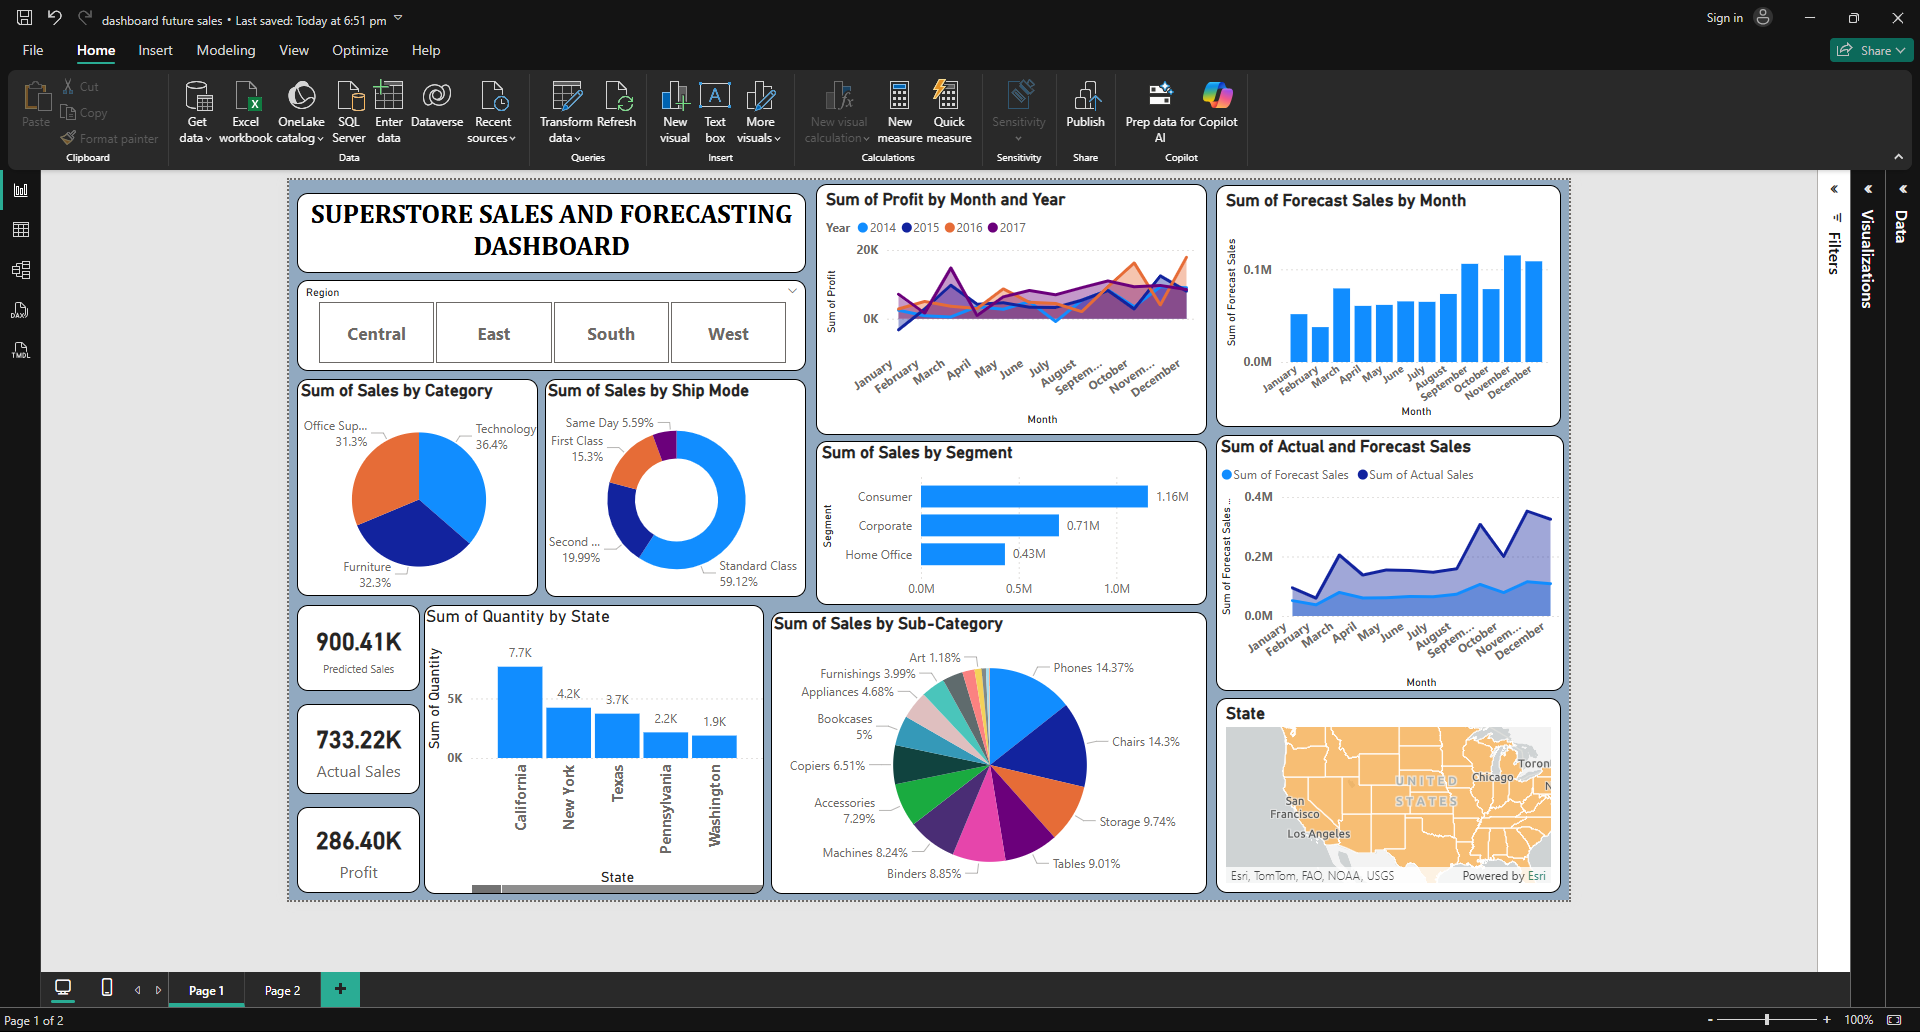

The page's visual inventory and layout, read from the dashboard file:
{"tool":"powerbi","page":{"name":"Page 1","canvas":[1280,720],"ordinal":0},"visuals":[{"type":"areaChart","title":"Sum of Actual and Forecast Sales  ","fields":{"Category":["clean_sales_forecast.Date.Variation.Date Hierarchy.Month"],"Y":["Sum(clean_sales_forecast.Forecast Sales )","Sum(clean_sales_forecast.Actual Sales)"]},"box":[926.8,254.8,348.2,255.7],"z":0},{"type":"columnChart","fields":{"Category":["clean_sales_forecast.Date.Variation.Date Hierarchy.Month"],"Y":["Sum(clean_sales_forecast.Forecast Sales )"]},"box":[926.8,5.4,345.5,241.2],"z":1000},{"type":"areaChart","fields":{"Y":["Sum(superstore.Profit)"],"Category":["clean_sales_forecast.Date.Variation.Date Hierarchy.Month"],"Series":["clean_sales_forecast.MonthYear.Variation.Date Hierarchy.Year"]},"box":[526.9,3.6,390.8,251.2],"z":2000},{"type":"card","fields":{"Values":["clean_sales_forecast.Yearly Predicted Sales"]},"box":[8,425,123,86],"z":3000},{"type":"card","fields":{"Values":["clean_sales_forecast.Yearly Actual Sales"]},"box":[8,524,123,90],"z":4000},{"type":"slicer","fields":{"Values":["superstore.Region"]},"box":[8,100,509,91],"z":5000},{"type":"pieChart","fields":{"Category":["superstore.Category"],"Y":["Sum(superstore.Sales)"]},"box":[8.2,198.6,253.9,217.6],"z":6000},{"type":"card","fields":{"Values":["Sum(superstore.Profit)"]},"box":[8,627,123,86],"z":7000},{"type":"columnChart","fields":{"Category":["superstore.State"],"Y":["Sum(superstore.Quantity)"]},"box":[135.1,425.3,340.1,288.4],"z":8000},{"type":"donutChart","fields":{"Category":["superstore.Ship Mode"],"Y":["Sum(superstore.Sales)","select"]},"box":[269.3,198.6,247.6,217.6],"z":9000},{"type":"clusteredBarChart","fields":{"Category":["superstore.Segment"],"Y":["Sum(superstore.Sales)"]},"box":[526.9,261.2,390.8,164.1],"z":10000},{"type":"pieChart","fields":{"Category":["superstore.Sub-Category"],"Y":["Sum(superstore.Sales)"]},"box":[481.5,431.6,436.2,282],"z":11000},{"type":"esriVisual","fields":{"Location":["superstore.State"]},"box":[926.8,517.8,345.5,195],"z":12000},{"type":"textbox","box":[8,13,509,80],"z":13000}]}

Visuals, with their boxes on the page's 1280x720 design canvas (x1, y1, x2, y2). These are canvas units, not pixel positions in the 1920x1032 screenshot, which may show the page scaled, cropped or inside an application window:
"Sum of Actual and Forecast Sales  " areaChart: x1=927 y1=255 x2=1275 y2=510
columnChart - clean_sales_forecast.Date.Variation.Date Hierarchy.Month x Sum(clean_sales_forecast.Forecast Sales ): x1=927 y1=5 x2=1272 y2=247
areaChart - Sum(superstore.Profit) x clean_sales_forecast.Date.Variation.Date Hierarchy.Month: x1=527 y1=4 x2=918 y2=255
card - clean_sales_forecast.Yearly Predicted Sales: x1=8 y1=425 x2=131 y2=511
card - clean_sales_forecast.Yearly Actual Sales: x1=8 y1=524 x2=131 y2=614
slicer - superstore.Region: x1=8 y1=100 x2=517 y2=191
pieChart - superstore.Category x Sum(superstore.Sales): x1=8 y1=199 x2=262 y2=416
card - Sum(superstore.Profit): x1=8 y1=627 x2=131 y2=713
columnChart - superstore.State x Sum(superstore.Quantity): x1=135 y1=425 x2=475 y2=714
donutChart - superstore.Ship Mode x Sum(superstore.Sales): x1=269 y1=199 x2=517 y2=416
clusteredBarChart - superstore.Segment x Sum(superstore.Sales): x1=527 y1=261 x2=918 y2=425
pieChart - superstore.Sub-Category x Sum(superstore.Sales): x1=482 y1=432 x2=918 y2=714
esriVisual - superstore.State: x1=927 y1=518 x2=1272 y2=713
textbox: x1=8 y1=13 x2=517 y2=93
